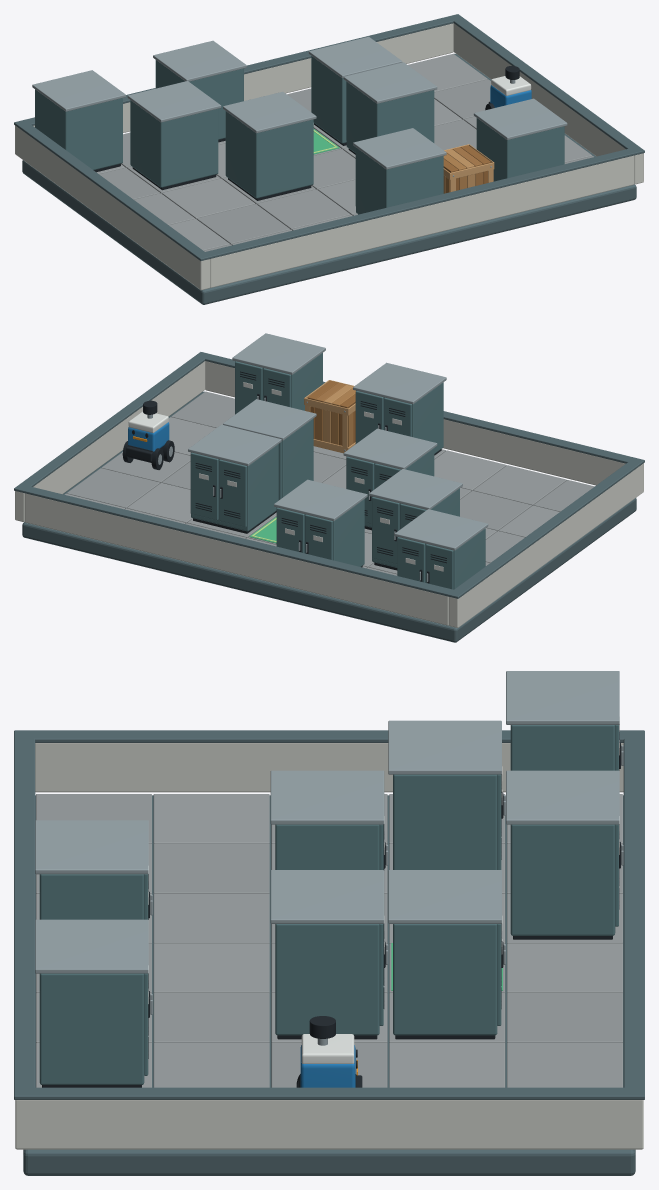
3 renders of one model, top to bottom at view 1: azimuth 30°, elevation 25°; view 2: azimuth 150°, elevation 25°; view 3: azimuth 270°, elevation 25°, orthographic. The views are drawn at different scales.
Parts seen in each view (by area): view 1: Cutaway wall.002, Floor foundation, obstacle_1, obstacle_2, obstacle_0, obstacle_4, obstacle_5, Cutaway wall, obstacle_7, obstacle_6, obstacle_3, Cutaway wall.003 (+20 smaller); view 2: Cutaway wall.003, Floor foundation, obstacle_6, obstacle_3, obstacle_4, Cutaway wall.002, Cutaway wall, obstacle_0, obstacle_7, obstacle_1, obstacle_5, obstacle_2 (+20 smaller); view 3: Cutaway wall.001, Floor foundation, obstacle_3, obstacle_6, obstacle_7, obstacle_5, obstacle_1, Cutaway wall, obstacle_2, obstacle_4, obstacle_0, Wall coping.001 (+19 smaller).
Part boxes in pixels (x1,y1,x2,y2): Cutaway wall.002: (210, 155, 634, 287); Floor foundation: (22, 53, 636, 304); obstacle_1: (127, 81, 221, 190); obstacle_2: (223, 91, 316, 200); obstacle_0: (32, 70, 125, 172); obstacle_4: (353, 128, 446, 214); obstacle_5: (343, 62, 437, 154); Cutaway wall: (15, 125, 210, 290); obstacle_7: (473, 98, 567, 181); obstacle_6: (308, 36, 402, 145); obstacle_3: (153, 40, 246, 142); Cutaway wall.003: (33, 23, 453, 132); Cutaway wall.003: (24, 493, 448, 625); Floor foundation: (22, 391, 636, 642); obstacle_6: (188, 424, 281, 533); obstacle_3: (274, 479, 367, 567); obstacle_4: (353, 362, 446, 455); Cutaway wall.002: (205, 361, 625, 485); Cutaway wall: (448, 463, 643, 627); obstacle_0: (394, 509, 488, 589); obstacle_7: (232, 333, 325, 414); obstacle_1: (369, 469, 462, 570); obstacle_5: (223, 399, 316, 500); obstacle_2: (343, 428, 437, 530); Cutaway wall.001: (15, 1100, 643, 1149); Floor foundation: (23, 795, 635, 1175); obstacle_3: (506, 770, 623, 939); obstacle_6: (388, 870, 505, 1039); obstacle_7: (35, 919, 152, 1087); obstacle_5: (270, 870, 388, 1039); obstacle_1: (388, 720, 505, 869); Cutaway wall: (35, 743, 623, 792); obstacle_2: (270, 770, 388, 870); obstacle_4: (35, 820, 152, 919); obstacle_0: (506, 671, 623, 770); Wall coping.001: (14, 1087, 644, 1099).
Size of the model in its own units: 7.36 by 1.44 by 5.36.
